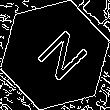N_SW: (24, 23, 86, 87)
